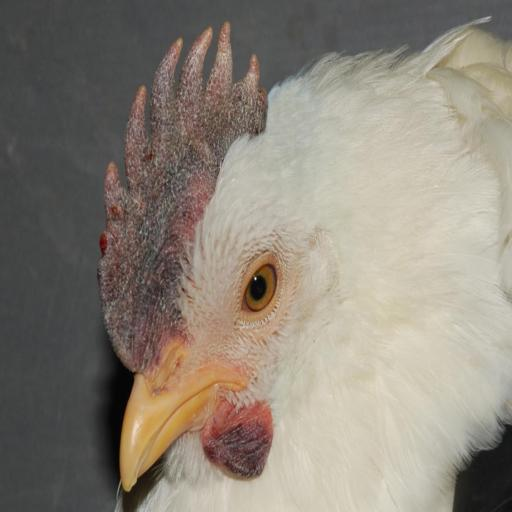disease: (86, 35, 195, 364), (202, 409, 272, 500)
